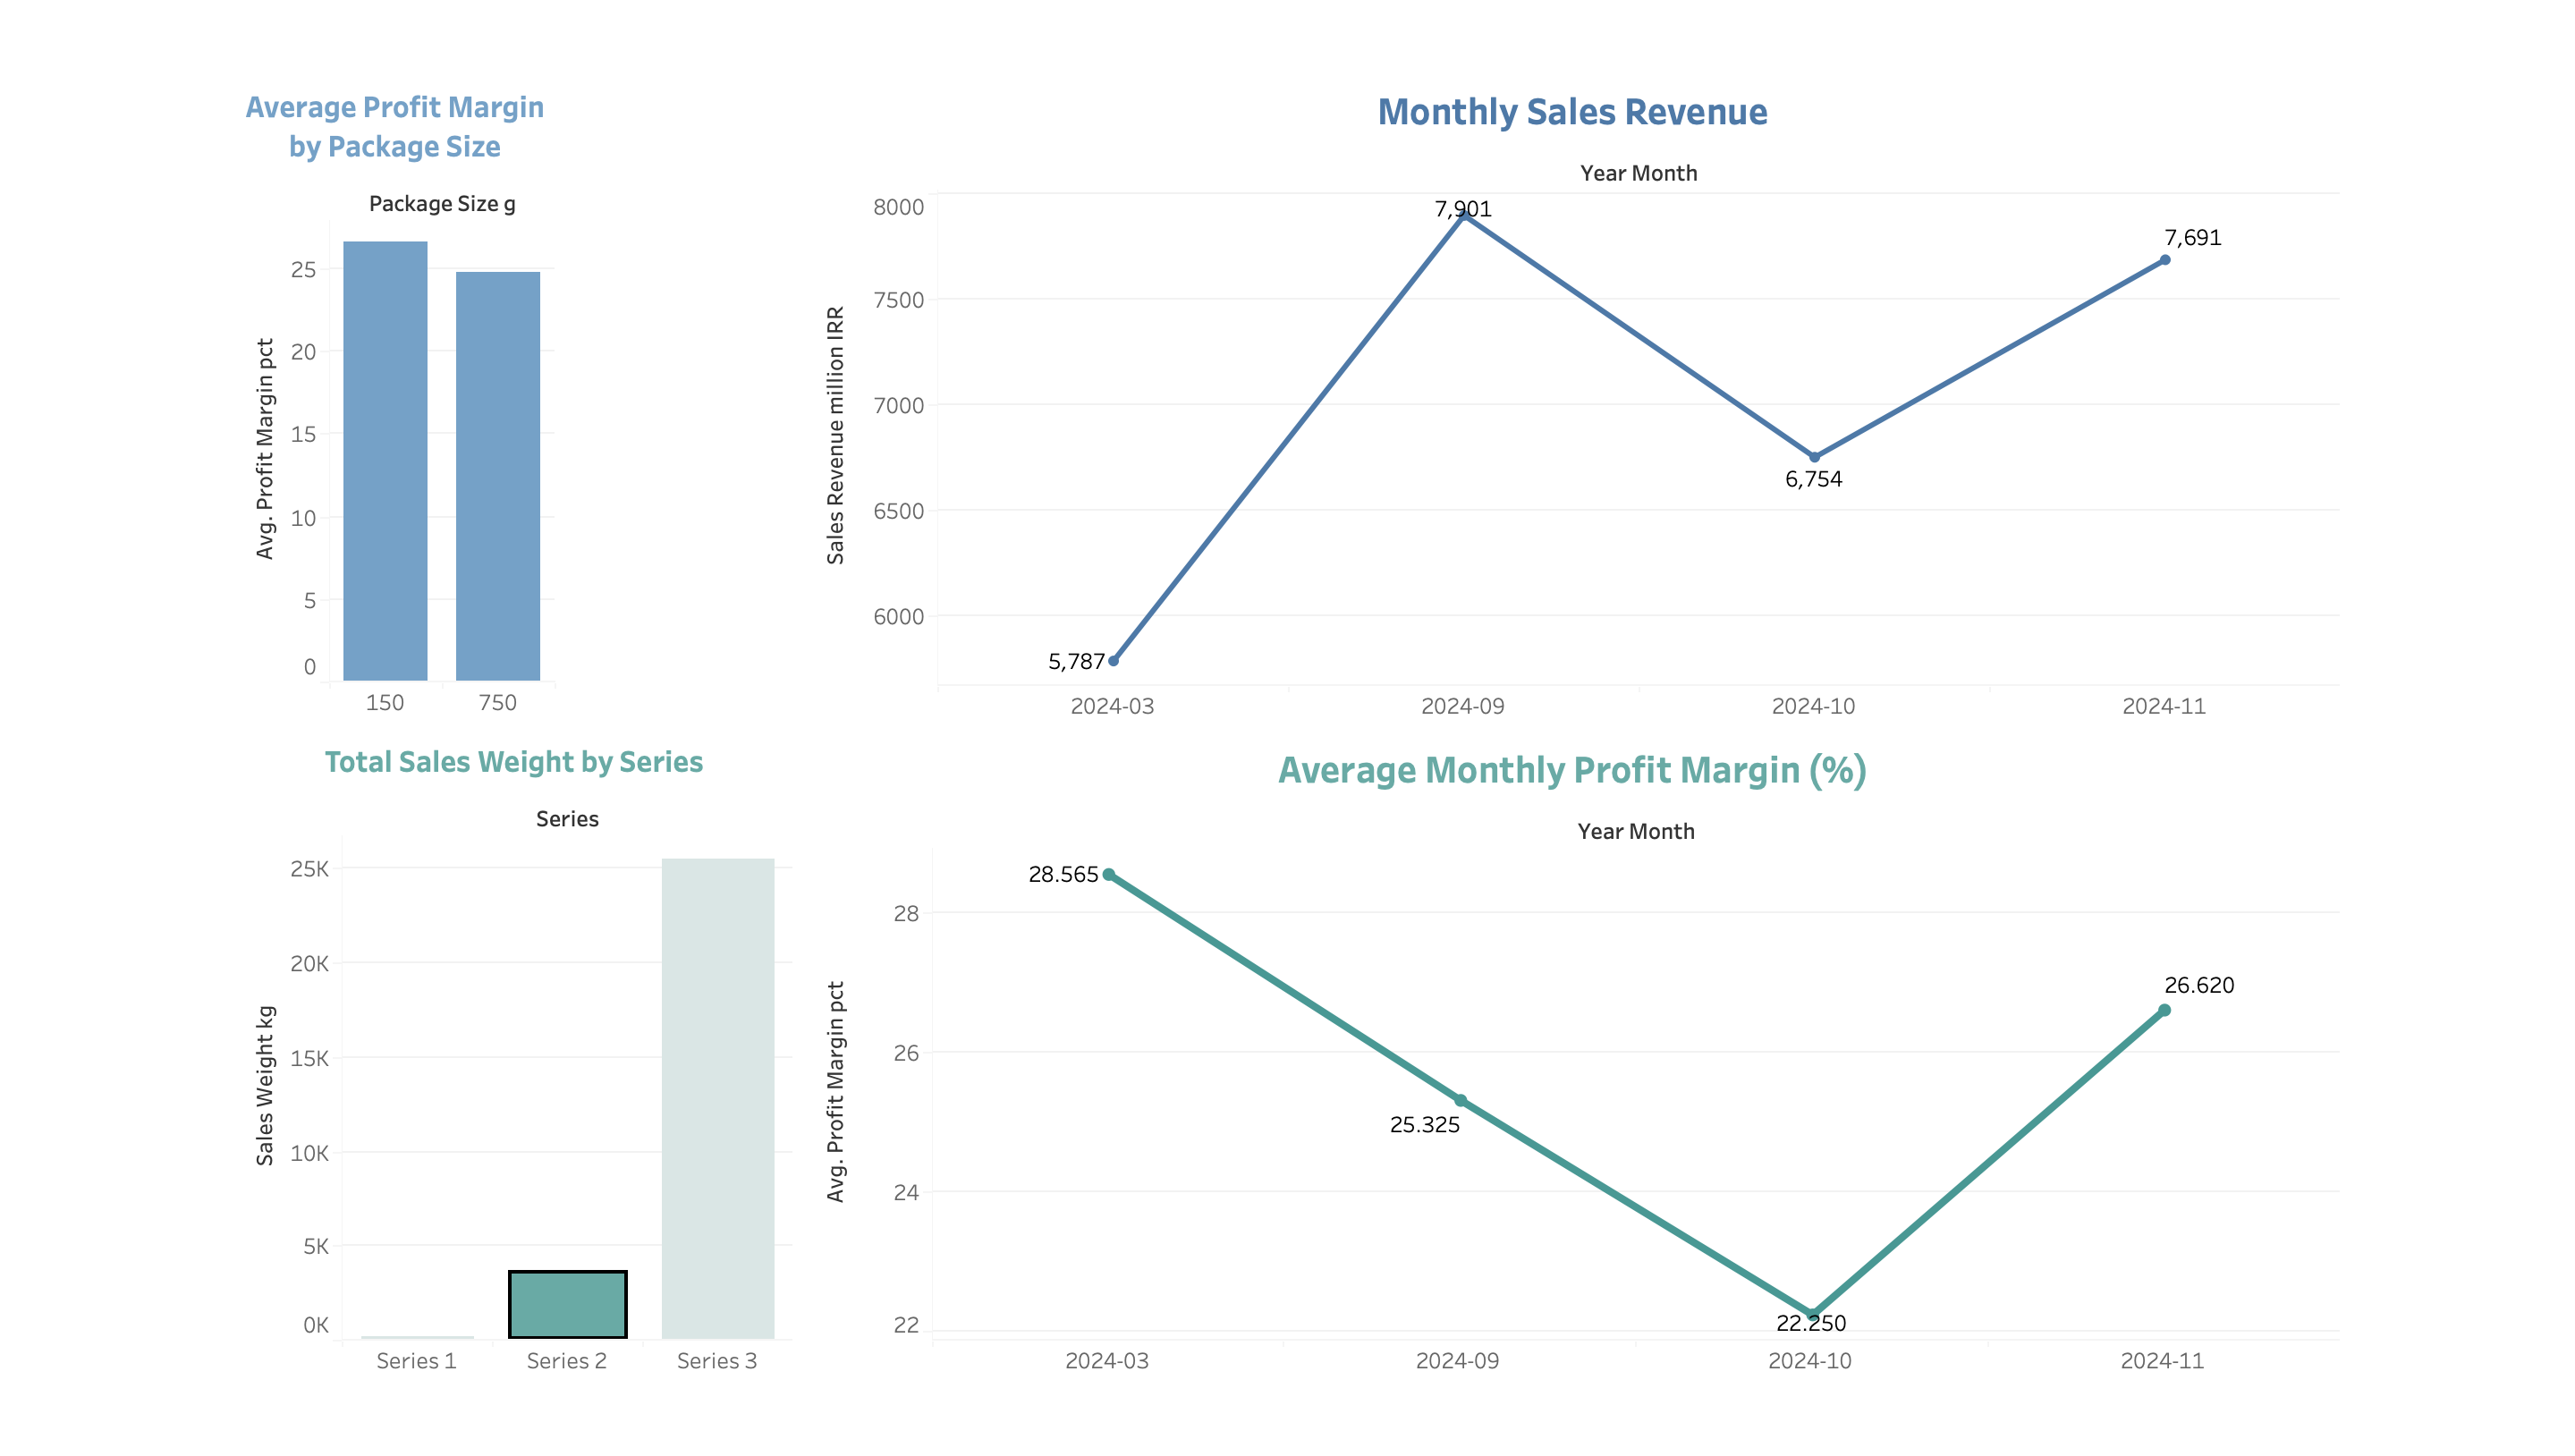

The page's visual inventory and layout, read from the dashboard file:
{"tool":"tableau","page":{"name":"Dashboard 1","canvas":[1000,1000],"units":"permille","ordinal":0},"visuals":[{"type":"worksheet","title":"Sheet 3","mark":"Automatic","rows":["Profit_Margin_pct"],"cols":["Package_Size_g"],"box":[6.7,10.7,265.7,487.9]},{"type":"worksheet","title":"Sheet 1","mark":"Line","rows":["Sales_Revenue_million_IRR"],"cols":["YearMonth"],"box":[272.4,10.7,721,490]},{"type":"worksheet","title":"Sheet 4","mark":"Bar","rows":["Sales_Weight_kg"],"cols":["Series"],"box":[6.7,498.6,265.7,490.8]},{"type":"worksheet","title":"Sheet 2","mark":"Line","rows":["Profit_Margin_pct"],"cols":["YearMonth"],"box":[272.4,500.7,721,488.6]}]}

Visuals, with their boxes on the dashboard's canvas, which has no fixed pixel size, in thousandths of its width and height (x1, y1, x2, y2). These are canvas units, not pixel positions in the 2575x1456 screenshot, which may show the page scaled, cropped or inside an application window:
"Sheet 3" worksheet: <box>7,11,272,499</box>
"Sheet 1" worksheet (Line marks): <box>272,11,993,501</box>
"Sheet 4" worksheet (Bar marks): <box>7,499,272,989</box>
"Sheet 2" worksheet (Line marks): <box>272,501,993,989</box>
